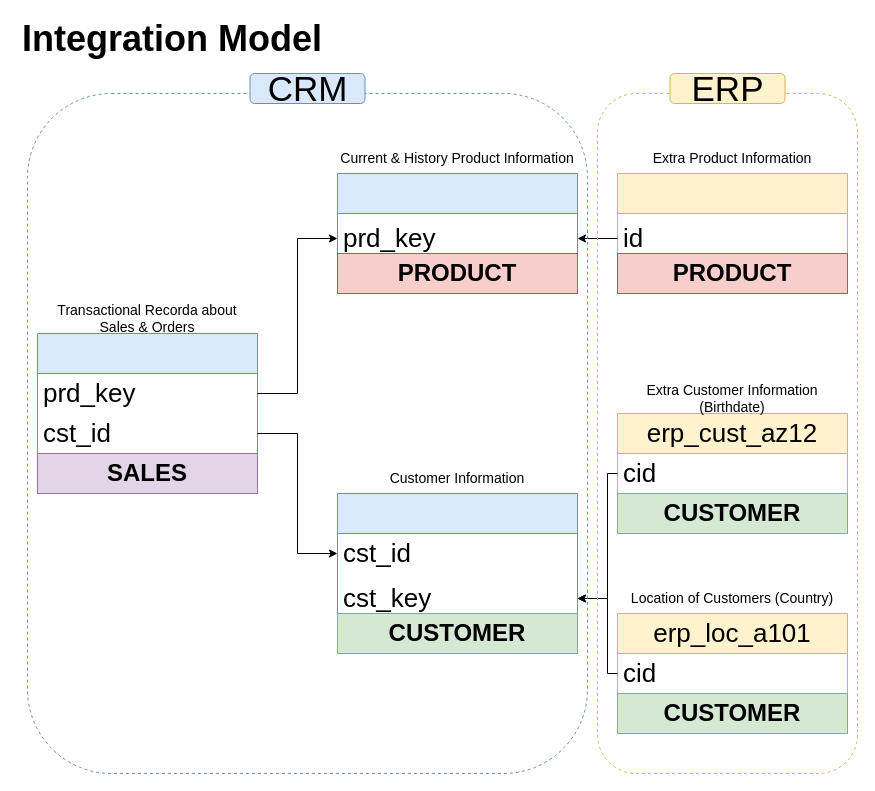
The diagram is 875 pixels wide and 791 high, and some of its shapes have lost their labels. Each missing label, with the box of its shape:
crm_cust_info: (336, 492, 578, 624)
crm_prd_info: (336, 172, 578, 264)
crm_sales_details: (36, 332, 258, 454)
erp_px_cat_g1v2: (616, 172, 848, 264)
